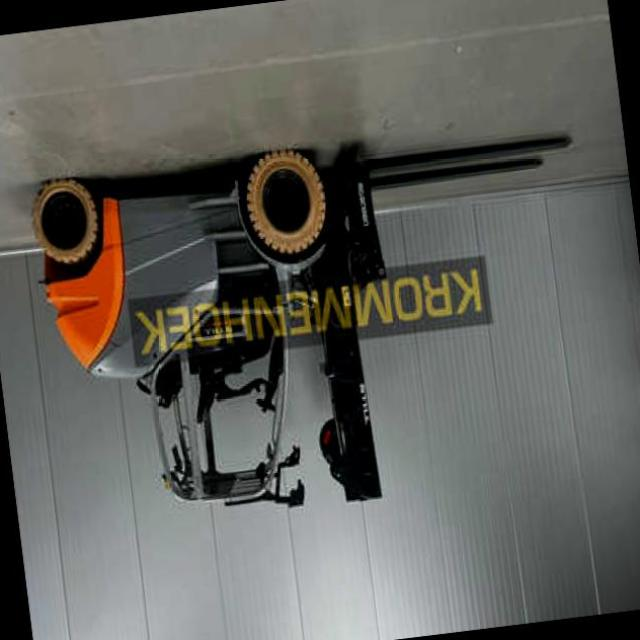forklift: (22, 132, 419, 562)
